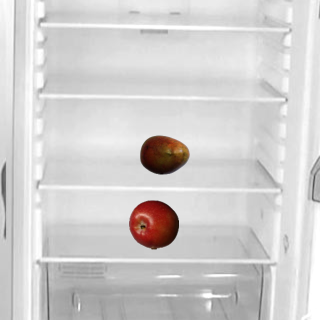Apple Braeburn: (128, 199, 178, 249)
Mango Red: (139, 129, 189, 179)
